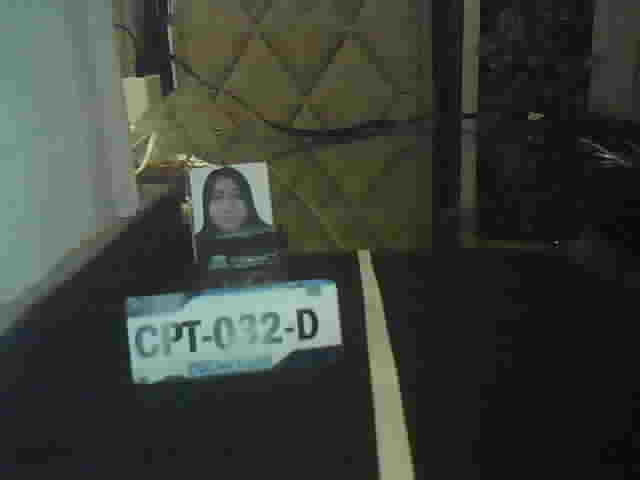PLACA: (119, 277, 346, 387)
ROSTRO: (193, 169, 273, 250)
